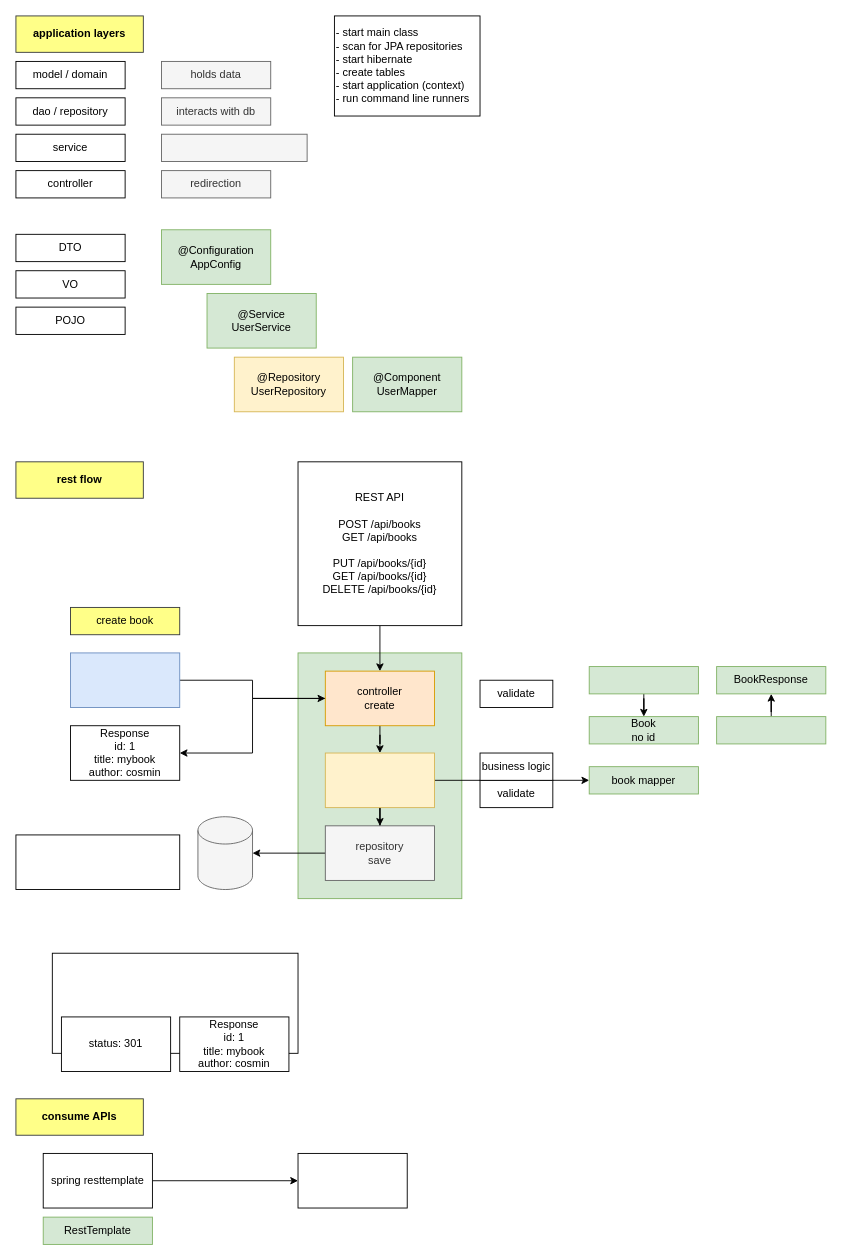
Image size: 842x1260. Some labels were removed from this diagram. The box of each missing label's shape, as (x1, y1, x2, y2) in pixels:
book 1, myBook, cosmin, today: (15, 834, 180, 890)
Book id: (716, 716, 826, 744)
BookRequest: (588, 666, 698, 694)
business logic & validation: (161, 133, 307, 162)
Db: (197, 816, 253, 890)
Request title: mybook author: cosmin: (70, 652, 180, 708)
ResponseEntity: (51, 952, 298, 1053)
service create: (324, 752, 435, 808)
spring boot rest POST /api/books: (297, 1153, 407, 1208)
